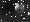person: (20, 1, 25, 13), (17, 5, 21, 14)
